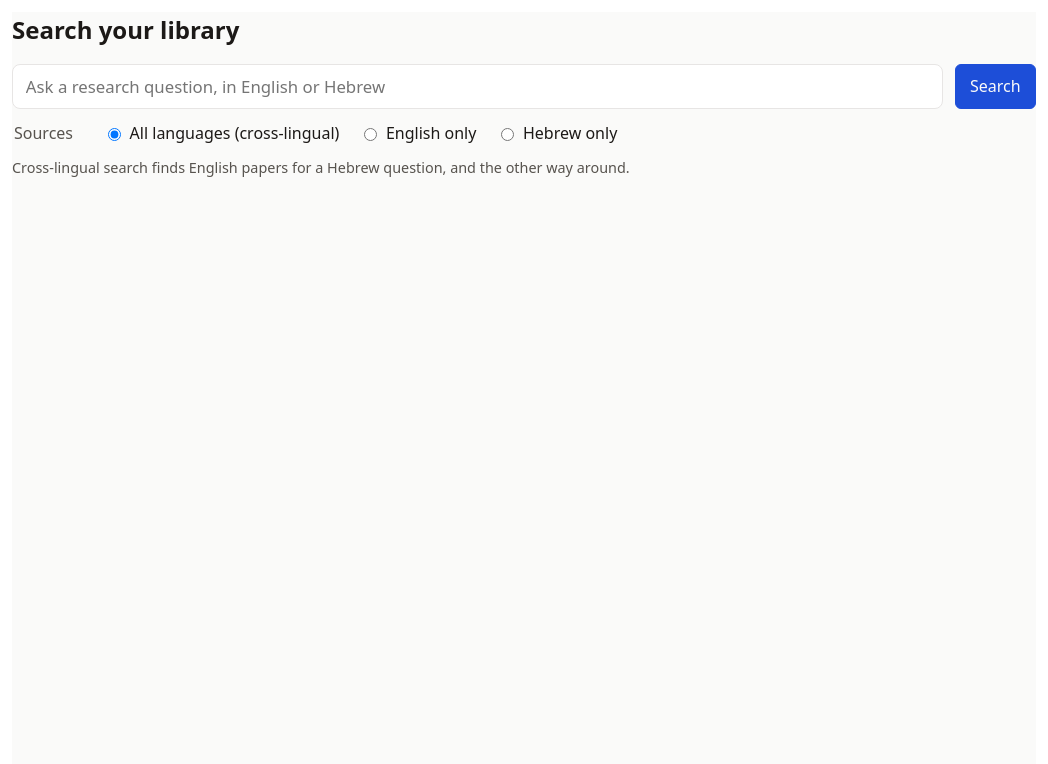
it: SearchPage › shows results with passages and page numbers
In the search field: (477, 86) [12,64,943,109], type "sleep"
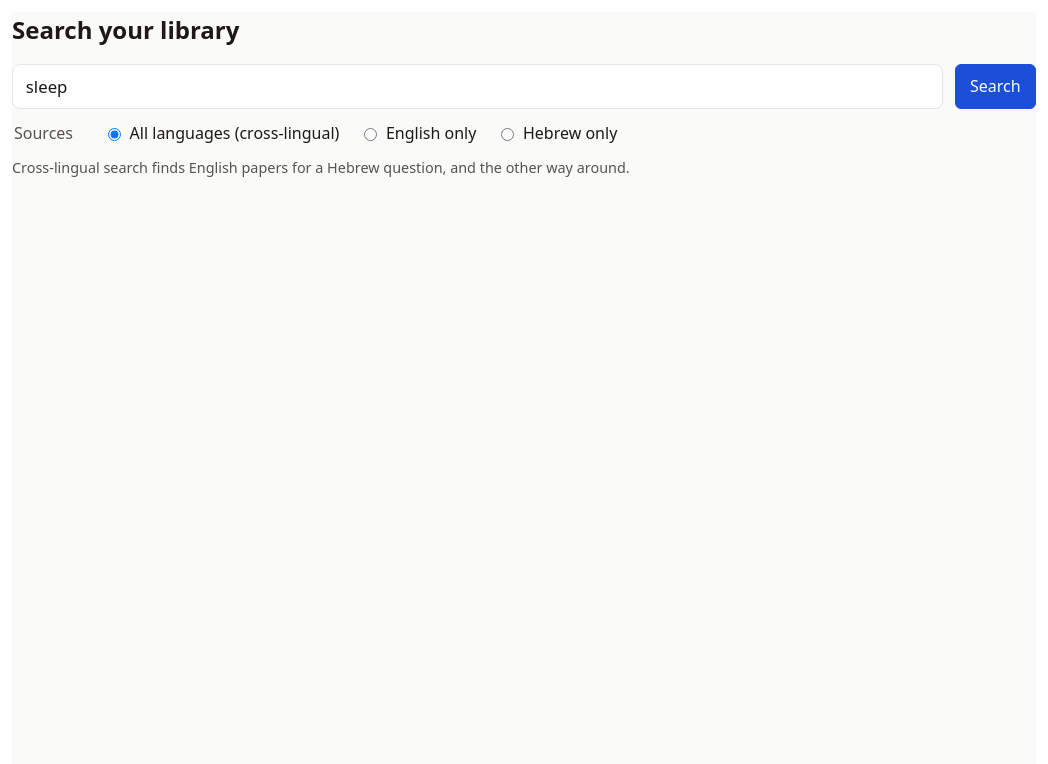
Click the button "Search": (995, 86) [955,64,1036,109]
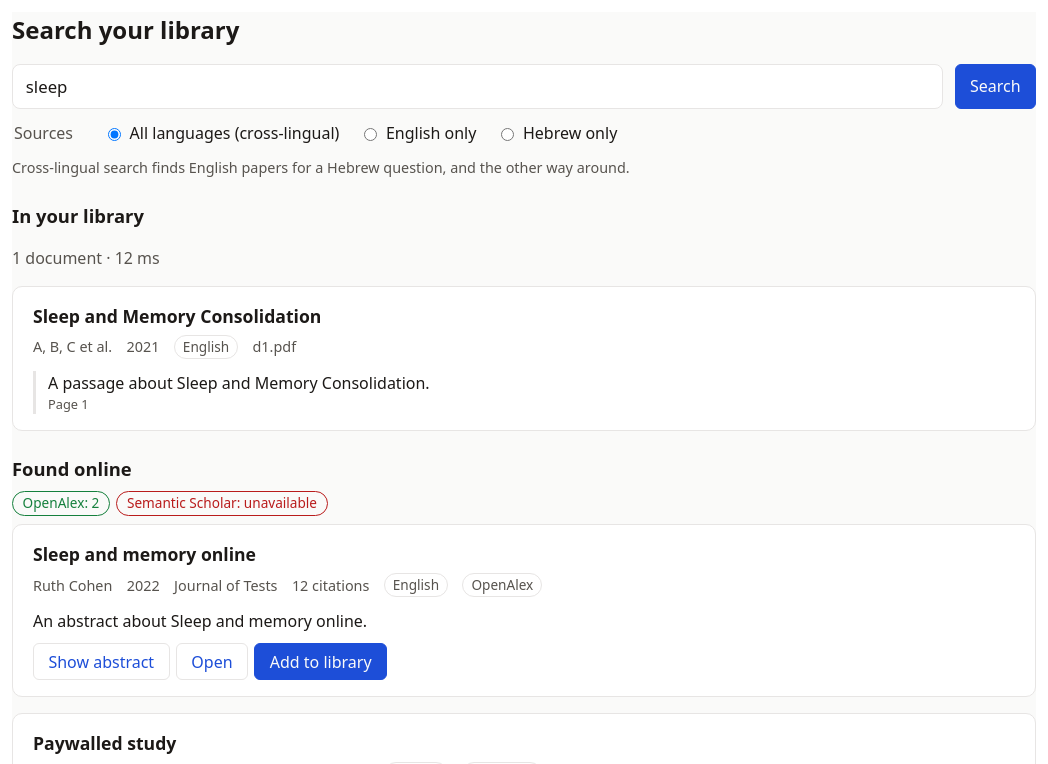
Now the list item that starts with "Sleep and Memory Consolidation" is shown, box [33,304,321,328]
Now the list item that starts with "Sleep and Memory Consolidation" shows "A, B, C et al.", box [33,337,112,356]
Now the list item that starts with "Sleep and Memory Consolidation" shows "Page 1", box [48,395,89,413]
